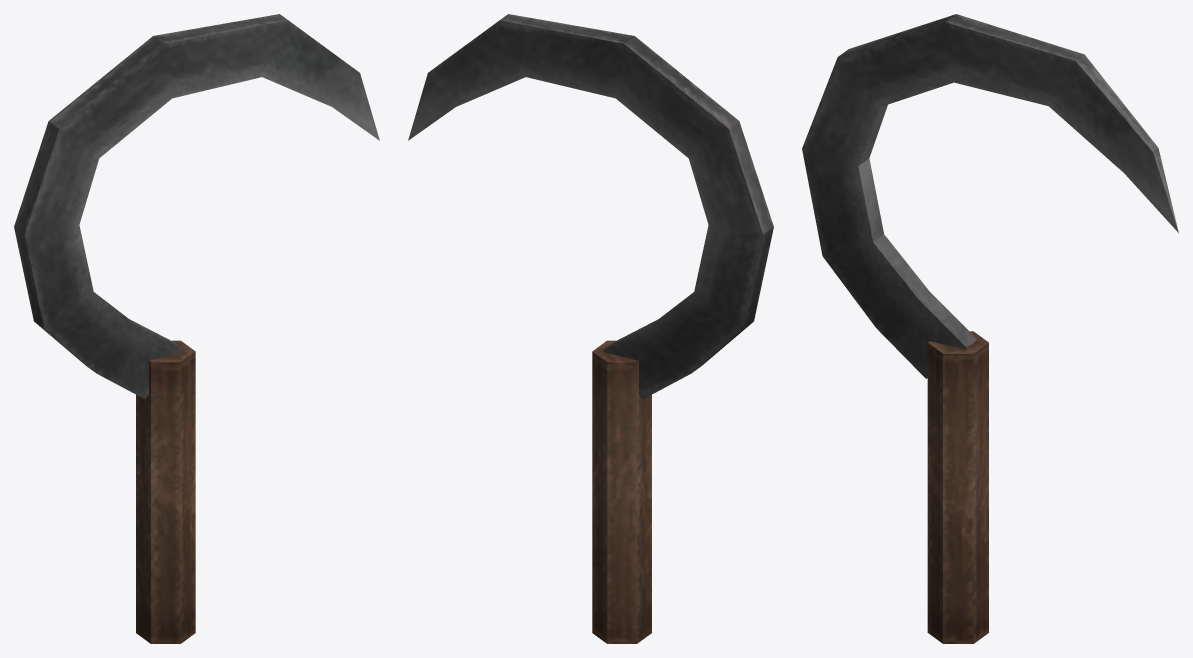
The model's file is Sickle_1.fbx.
3 renders of one model, left to right at view 1: azimuth 30°, elevation 25°; view 2: azimuth 150°, elevation 25°; view 3: azimuth 330°, elevation 25°, orthographic. The views are drawn at different scales.
Visible parts, largest first — view 1: Sickle_1; view 2: Sickle_1; view 3: Sickle_1.
Part boxes in pixels (box(x1,y1,x2,y2)): Sickle_1: box(14, 14, 379, 643); Sickle_1: box(408, 14, 773, 643); Sickle_1: box(802, 14, 1178, 643).
Size of the model in its own units: 32.13 by 50.65 by 4.6.
